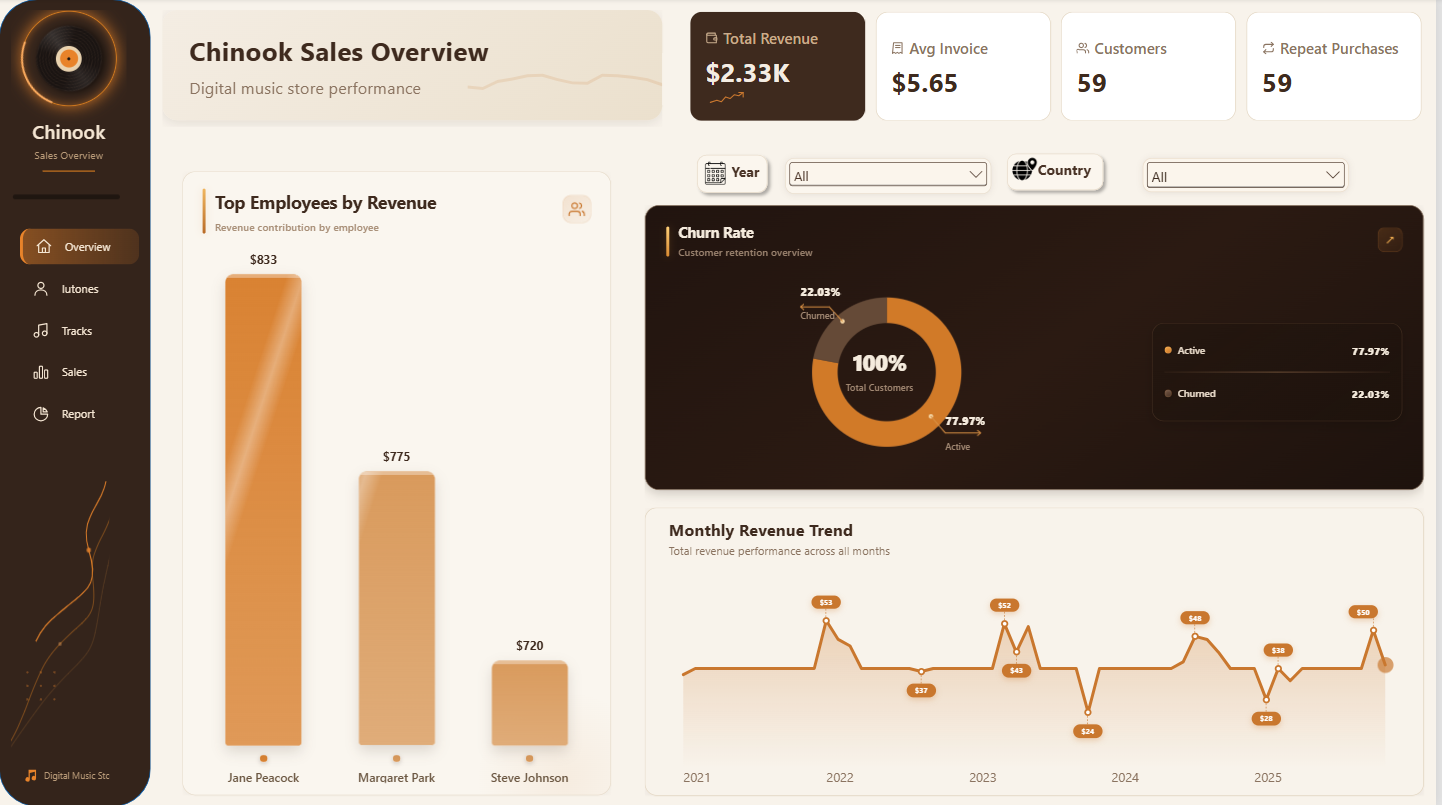

This screenshot's page, from the dashboard's own definition file:
{"tool":"powerbi","page":{"name":"Overview","canvas":[1920,1080],"ordinal":1},"visuals":[{"type":"htmlContent443BE3AD55E043BF878BED274D3A6855","fields":{"content":["Avg_CLV__2.HeaderHTML"]},"box":[202.7,1.8,700.3,186.4],"z":0},{"type":"shape","box":[1337.3,199.1,146.6,67],"z":0,"group":"g2"},{"type":"shape","box":[922.9,200.9,112.2,68.8],"z":0,"group":"g1"},{"type":"htmlContent443BE3AD55E043BF878BED274D3A6855","fields":{"content":["Avg_CLV__2.KPI_HTML"]},"box":[903,0,1017,186.4],"z":1000},{"type":"textbox","box":[1388,217.2,77.8,52.5],"z":1000,"group":"g2"},{"type":"textbox","box":[977.2,219,115.8,50.7],"z":1000,"group":"g1"},{"type":"image","box":[1350,202.7,38,52.5],"z":2000,"group":"g2"},{"type":"image","box":[922.9,219,67,30.8],"z":2000,"group":"g1"},{"type":"htmlContent443BE3AD55E043BF878BED274D3A6855","fields":{"content":["Avg_CLV__2.RevenueTrendHTML"]},"box":[846.9,666,1073.1,414.4],"z":2000},{"type":"htmlContent443BE3AD55E043BF878BED274D3A6855","fields":{"content":["churn_rate.ChurnRateHTML"]},"box":[846.9,262.4,1073.1,434.3],"z":3000},{"type":"htmlContent443BE3AD55E043BF878BED274D3A6855","fields":{"content":["_measure.Top3EmployeesHTML"]},"box":[228,217.2,604.4,863.2],"z":4000},{"type":"slicer","fields":{"Values":["chinook customer.Country"]},"box":[1527.4,213.5,275.1,45.2],"z":5000},{"type":"slicer","fields":{"Values":["chinook invoice.InvoiceDate.Variation.Date Hierarchy.Year"]},"box":[1049.6,213.5,275.1,48],"z":6000},{"type":"group","id":"g1","title":"Group 1","box":[922.9,200.9,170.1,68.8],"z":7000},{"type":"group","id":"g2","title":"Group 2","box":[1337.3,199.1,146.6,70.6],"z":8000},{"type":"shape","box":[0,1.8,202.7,1078.6],"z":9000},{"type":"htmlContent443BE3AD55E043BF878BED274D3A6855","fields":{"content":["_measure.Chinook Disc"]},"box":[0,1.8,186.4,284.1],"z":10000},{"type":"htmlContent443BE3AD55E043BF878BED274D3A6855","fields":{"content":["_measure.Chinook Footer"]},"box":[0,604.4,162.9,475.9],"z":11000},{"type":"htmlContent443BE3AD55E043BF878BED274D3A6855","fields":{"content":["_measure.Chinook Menu"]},"box":[0,285.9,215.3,311.3],"z":12000},{"type":"actionButton","box":[38,369.2,143,39.8],"z":13000},{"type":"actionButton","box":[43.4,425.3,143,39.8],"z":14000},{"type":"actionButton","box":[43.4,483.2,143,39.8],"z":15000},{"type":"actionButton","box":[45.2,541.1,143,39.8],"z":16000}]}

Visuals, with their boxes on the page's 1920x1080 design canvas (x1, y1, x2, y2). These are canvas units, not pixel positions in the 1442x805 screenshot, which may show the page scaled, cropped or inside an application window:
htmlContent443BE3AD55E043BF878BED274D3A6855 - Avg_CLV__2.HeaderHTML: 203, 2, 903, 188
shape: 1337, 199, 1484, 266
shape: 923, 201, 1035, 270
htmlContent443BE3AD55E043BF878BED274D3A6855 - Avg_CLV__2.KPI_HTML: 903, 0, 1920, 186
textbox: 1388, 217, 1466, 270
textbox: 977, 219, 1093, 270
image: 1350, 203, 1388, 255
image: 923, 219, 990, 250
htmlContent443BE3AD55E043BF878BED274D3A6855 - Avg_CLV__2.RevenueTrendHTML: 847, 666, 1920, 1080
htmlContent443BE3AD55E043BF878BED274D3A6855 - churn_rate.ChurnRateHTML: 847, 262, 1920, 697
htmlContent443BE3AD55E043BF878BED274D3A6855 - _measure.Top3EmployeesHTML: 228, 217, 832, 1080
slicer - chinook customer.Country: 1527, 214, 1802, 259
slicer - chinook invoice.InvoiceDate.Variation.Date Hierarchy.Year: 1050, 214, 1325, 262
"Group 1" group: 923, 201, 1093, 270
"Group 2" group: 1337, 199, 1484, 270
shape: 0, 2, 203, 1080
htmlContent443BE3AD55E043BF878BED274D3A6855 - _measure.Chinook Disc: 0, 2, 186, 286
htmlContent443BE3AD55E043BF878BED274D3A6855 - _measure.Chinook Footer: 0, 604, 163, 1080
htmlContent443BE3AD55E043BF878BED274D3A6855 - _measure.Chinook Menu: 0, 286, 215, 597
actionButton: 38, 369, 181, 409
actionButton: 43, 425, 186, 465
actionButton: 43, 483, 186, 523
actionButton: 45, 541, 188, 581
